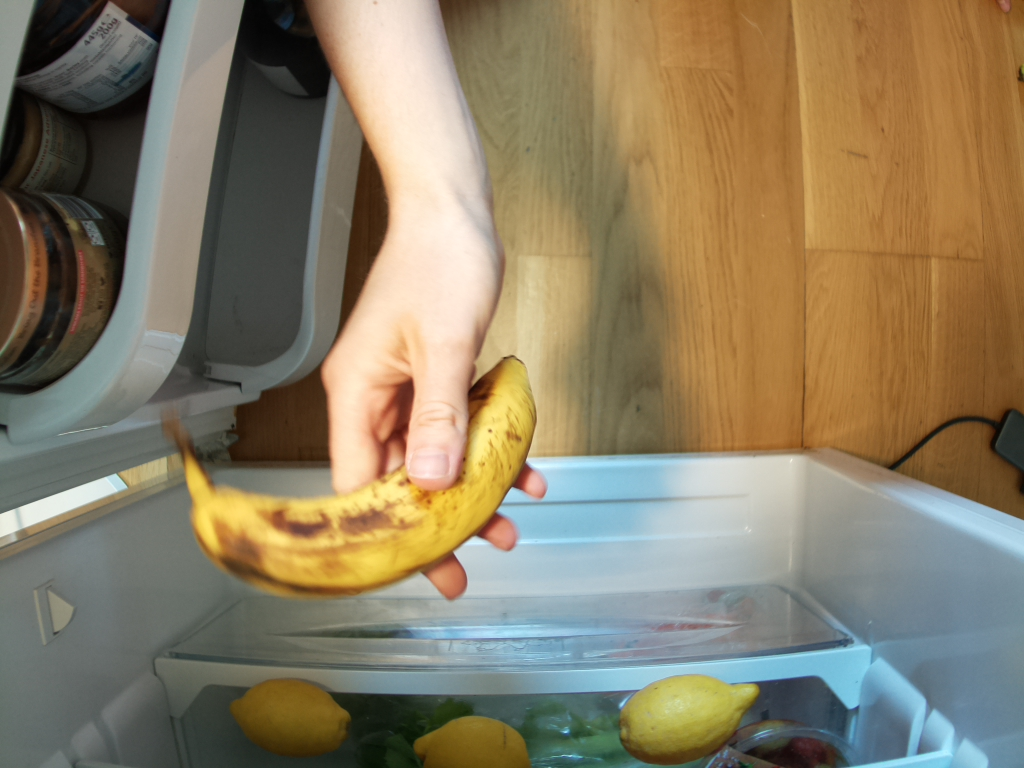banana-overripe: (163, 352, 533, 598)
